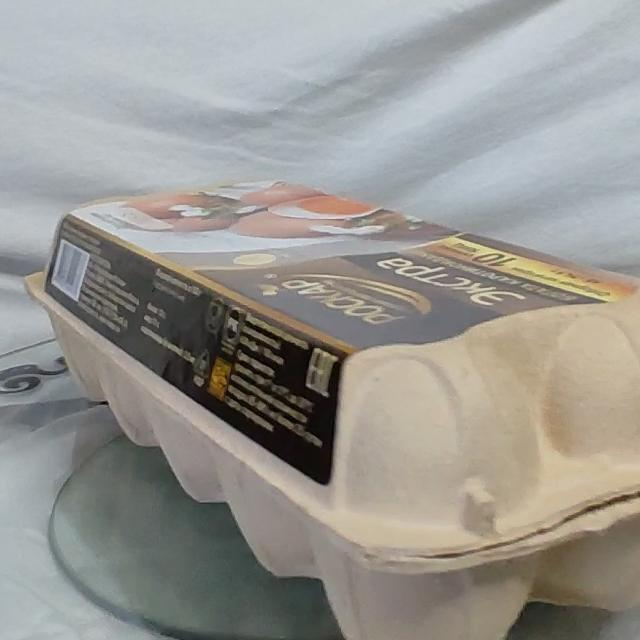egg: (13, 166, 640, 640)
